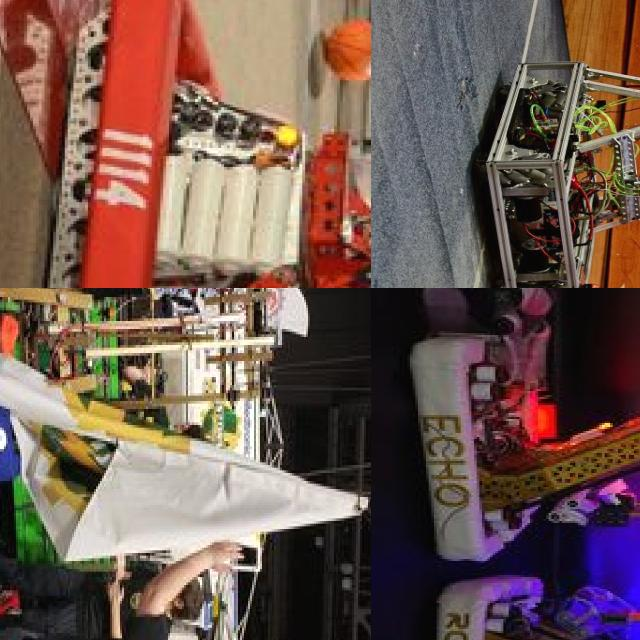FRC-Robots: (46, 0, 371, 288), (0, 288, 295, 526), (404, 303, 640, 585), (422, 20, 640, 288)
